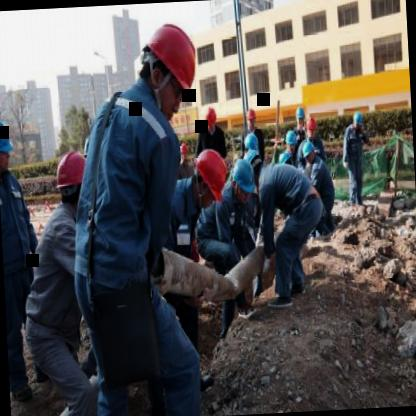helmet: (132, 10, 208, 121), (53, 141, 90, 216), (190, 144, 228, 208), (227, 158, 254, 200), (0, 113, 15, 173), (244, 149, 264, 176), (202, 106, 217, 133), (242, 105, 258, 130), (282, 129, 298, 153), (302, 140, 317, 165), (294, 104, 306, 129), (350, 108, 362, 132), (307, 115, 318, 139)
